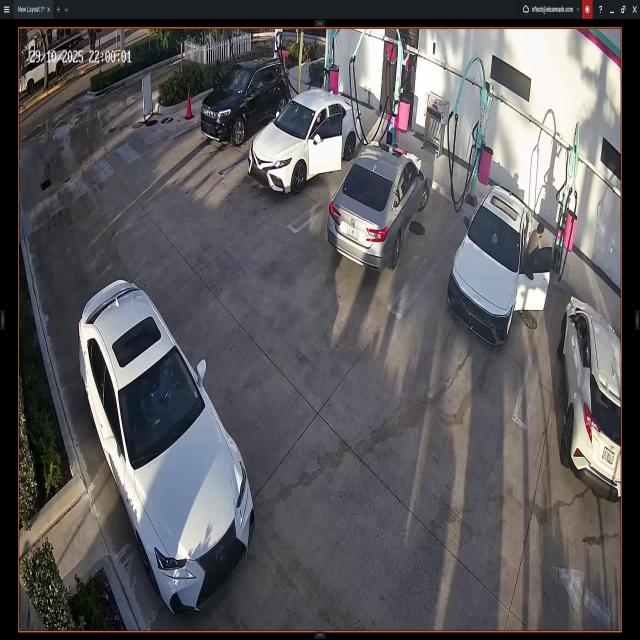Car: (76, 276, 256, 618), (452, 186, 551, 347), (328, 140, 428, 272), (561, 292, 623, 502), (250, 88, 363, 196), (204, 62, 288, 148)
